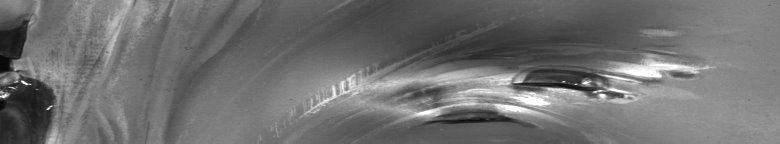ke: (305, 31, 709, 128)
